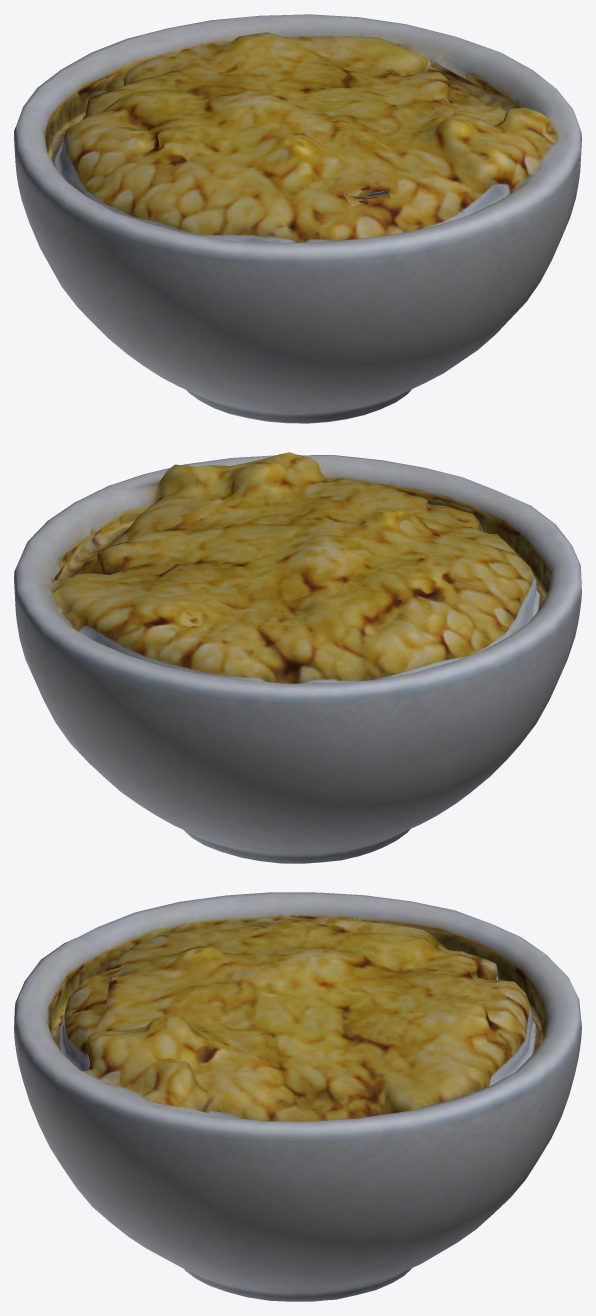
File: cereal_bowl.fbx
3 views of the same model, one above another, from view 1: azimuth 30°, elevation 25°; view 2: azimuth 150°, elevation 25°; view 3: azimuth 270°, elevation 25° (orthographic).
Parts seen in each view (by area): view 1: mesh; view 2: mesh; view 3: mesh.
Part boxes in pixels (x1,y1,x2,y2): mesh: (14, 14, 581, 423); mesh: (14, 452, 581, 863); mesh: (14, 892, 581, 1301).
Bounding box in the file's own units: 99.57 × 55.63 × 99.89.
